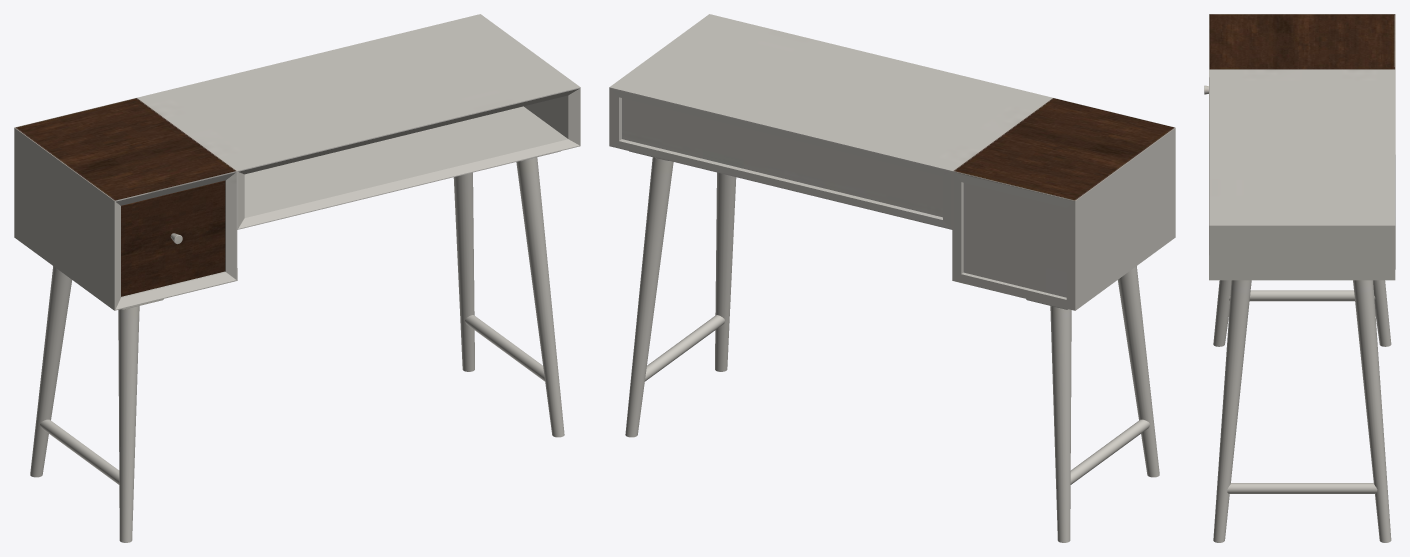
3 views of the same model, side by side, from view 1: azimuth 30°, elevation 25°; view 2: azimuth 150°, elevation 25°; view 3: azimuth 270°, elevation 25° (orthographic). The views are drawn at different scales.
Parts seen in each view (by area): view 1: RootNode; view 2: RootNode; view 3: RootNode.
Boxes of the visible parts, x1=… form: RootNode: x1=14, y1=14, x2=580, y2=542; RootNode: x1=609, y1=14, x2=1175, y2=542; RootNode: x1=1204, y1=14, x2=1395, y2=542.
Bounding box in the file's own units: 1.07 × 0.762 × 0.4093.
1 material, 1 textured.
